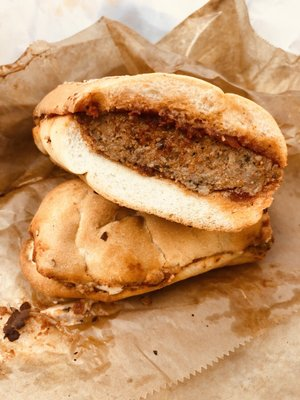soup: (17, 64, 290, 305)
